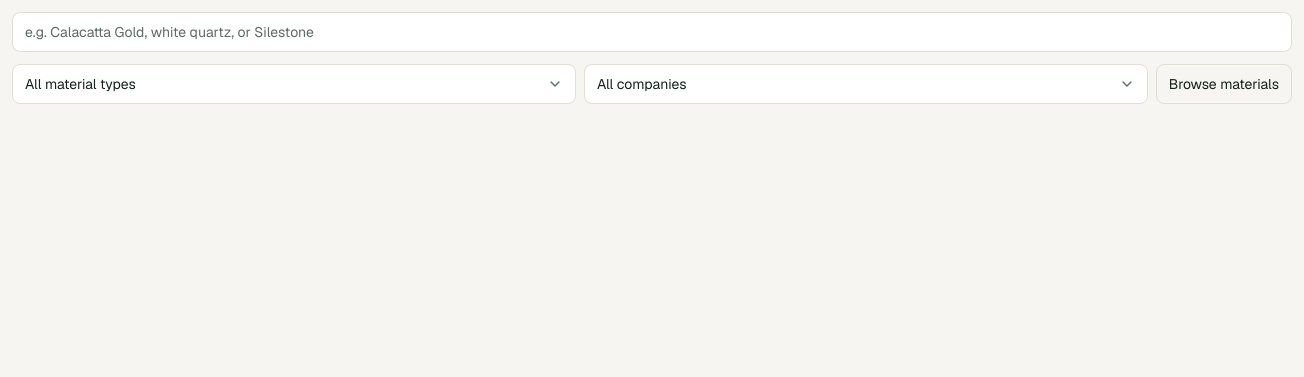
browses the catalogue without a search term and applies the material type filter
Select "Marble" in the 1st dropdown named "Material type" at (294, 84), box [12,64,576,104]
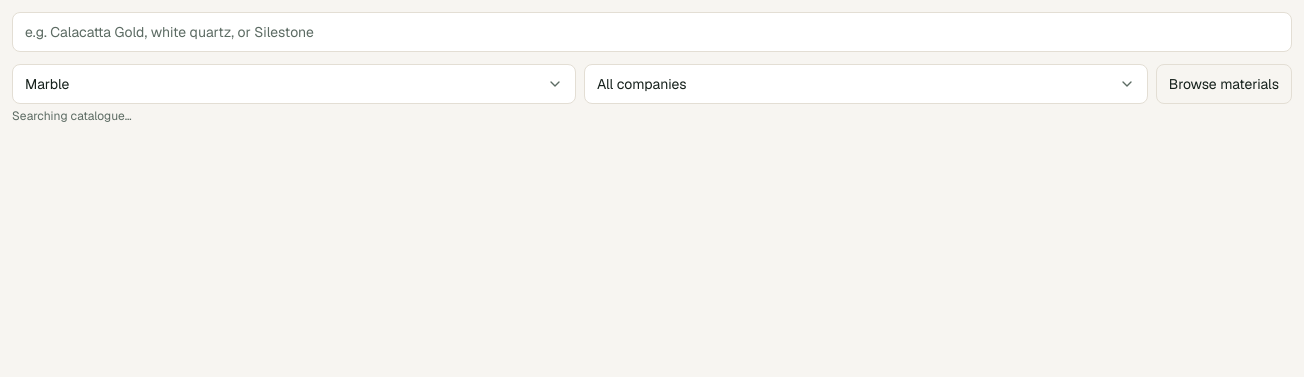
Click the button "Browse materials" at (1224, 84), box [1156,64,1292,104]
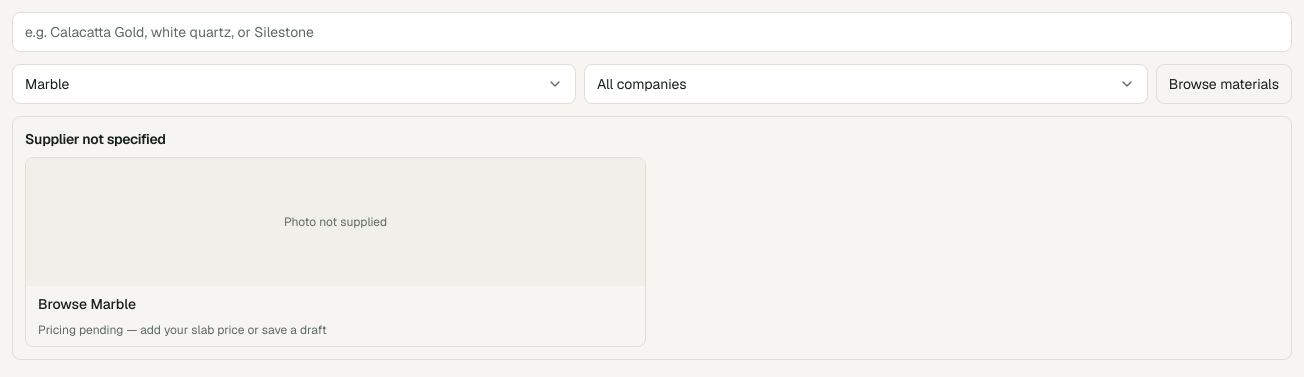
Check: the button "Browse Marble" is shown, box [25,157,646,347]
